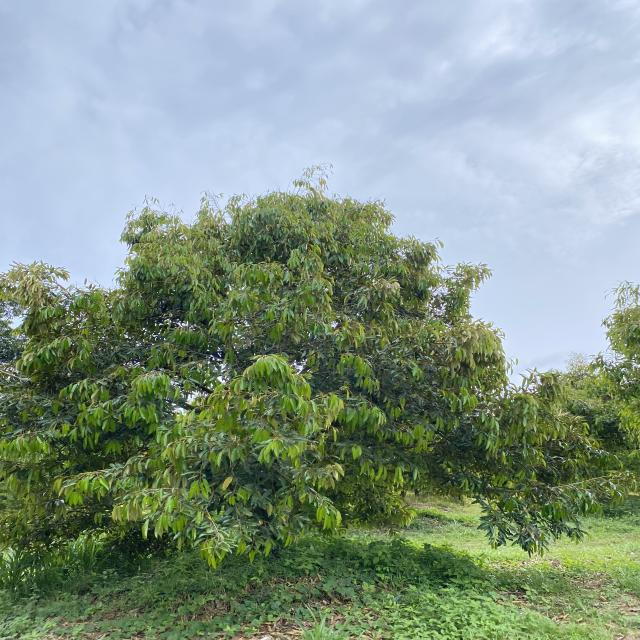Tree: (0, 211, 548, 571)
